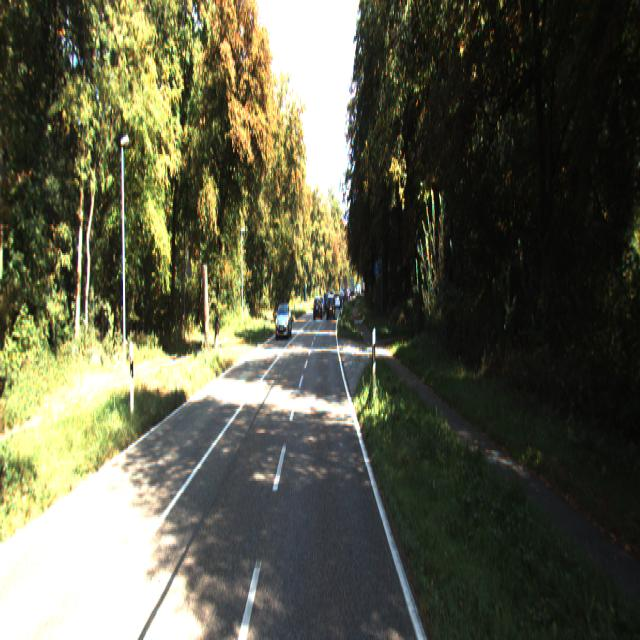Car: (274, 299, 292, 336)
